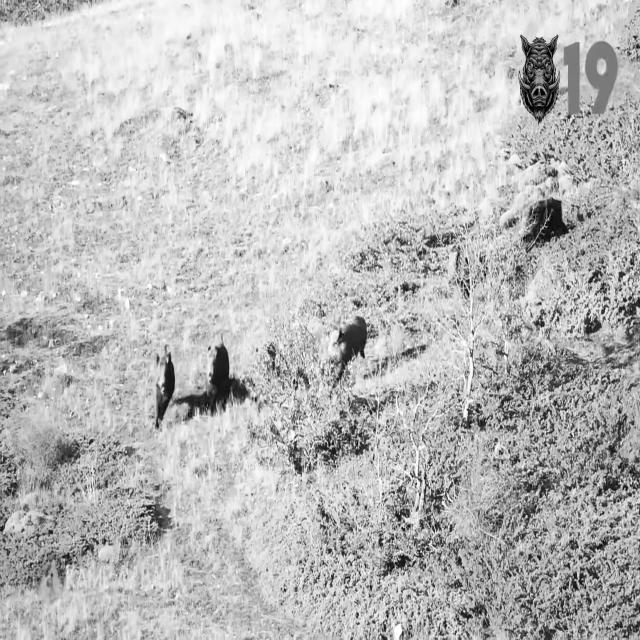boar: (518, 34, 559, 122), (524, 197, 568, 248), (337, 316, 366, 376), (208, 337, 230, 412), (155, 345, 174, 428)
